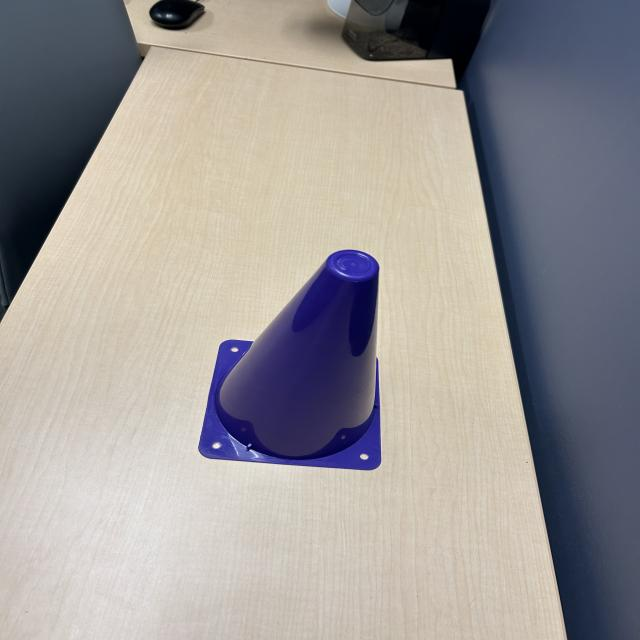purple cone: (195, 245, 394, 473)
